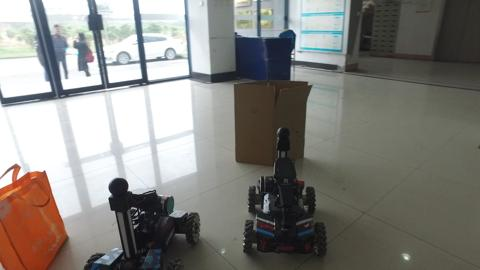box: (229, 72, 306, 163)
chariot: (81, 172, 207, 270), (240, 126, 326, 253)
